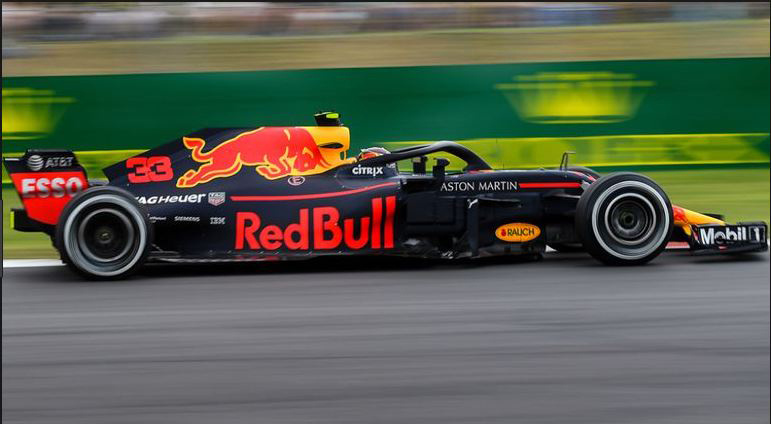F1 Car: (1, 105, 771, 285)
